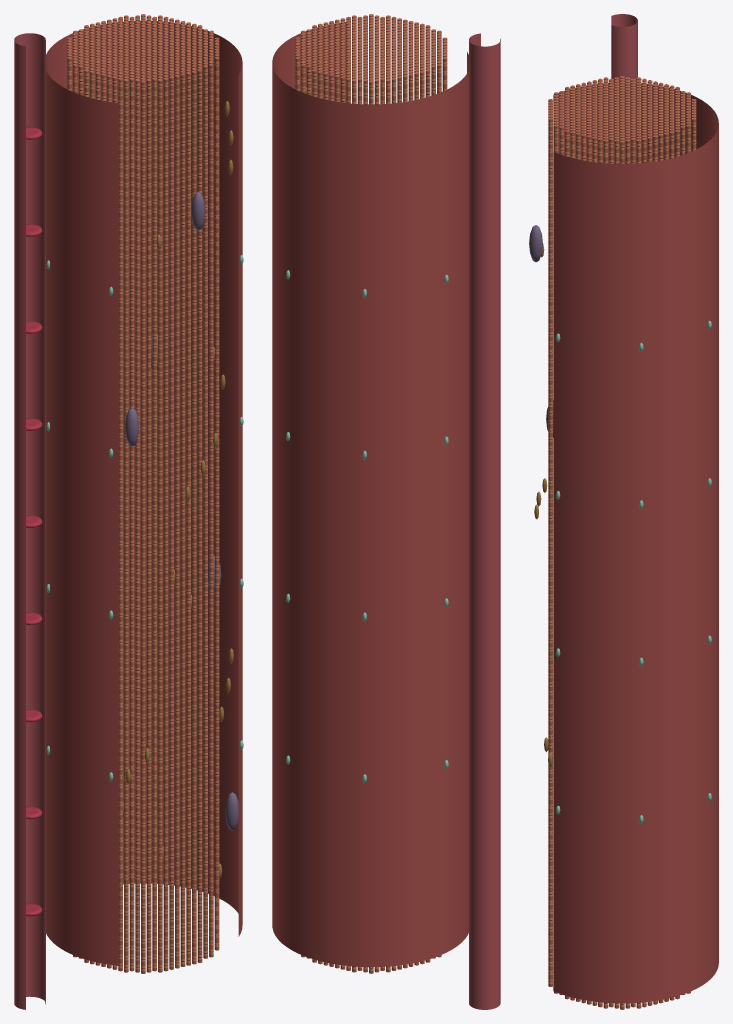
The model's file is fiber-detail.glb.
3 views of the same model, side by side, from view 1: azimuth 30°, elevation 25°; view 2: azimuth 150°, elevation 25°; view 3: azimuth 270°, elevation 25° (orthographic). The views are drawn at different scales.
Parts seen in each view (by area): view 1: pilot-sarcolemma, pilot-myofibrils, pilot-fiber-capillary, pilot-erythrocytes, pilot-myonuclei, pilot-mitochondria; view 2: pilot-sarcolemma, pilot-fiber-capillary, pilot-myofibrils; view 3: pilot-sarcolemma, pilot-myofibrils, pilot-fiber-capillary, pilot-myonuclei.
Boxes of the visible parts, left/top/right/bottom form: pilot-sarcolemma: left=46, top=20, right=242, bottom=965; pilot-myofibrils: left=67, top=14, right=219, bottom=973; pilot-fiber-capillary: left=14, top=33, right=45, bottom=1009; pilot-erythrocytes: left=26, top=127, right=42, bottom=916; pilot-myonuclei: left=125, top=192, right=238, bottom=830; pilot-mitochondria: left=123, top=101, right=233, bottom=878; pilot-sarcolemma: left=272, top=22, right=468, bottom=967; pilot-fiber-capillary: left=469, top=33, right=500, bottom=1009; pilot-myofibrils: left=295, top=14, right=447, bottom=973; pilot-sarcolemma: left=553, top=82, right=718, bottom=1003; pilot-myofibrils: left=548, top=76, right=696, bottom=1009; pilot-fiber-capillary: left=611, top=14, right=637, bottom=82; pilot-myonuclei: left=529, top=225, right=553, bottom=437.
Bounding box in the file's own units: 6.23e-05 × 0.000268 × 4.92e-05.
Materials: 7 (1 with a texture image).
